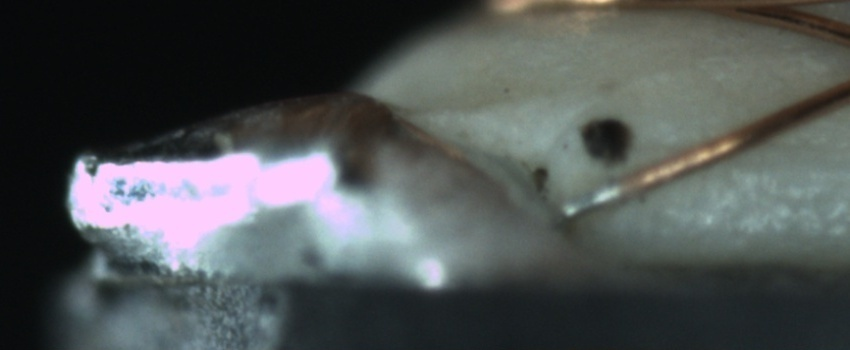DL: (753, 117, 850, 189)
TS: (559, 173, 629, 221)
